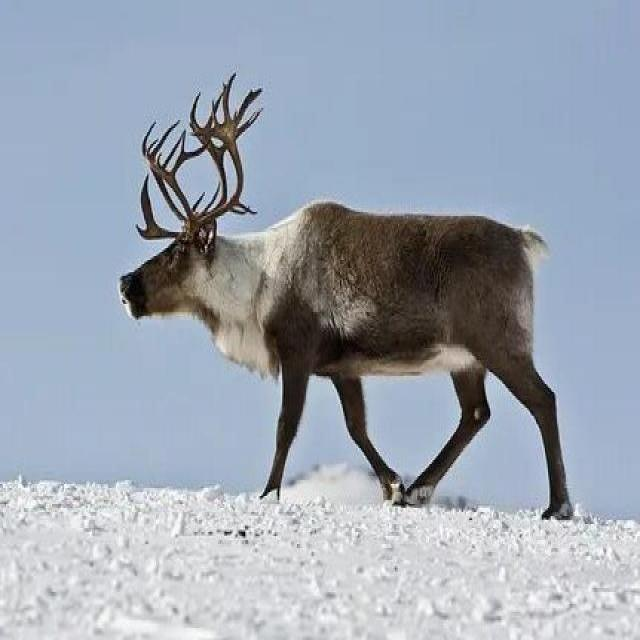deer: (127, 62, 594, 550)
